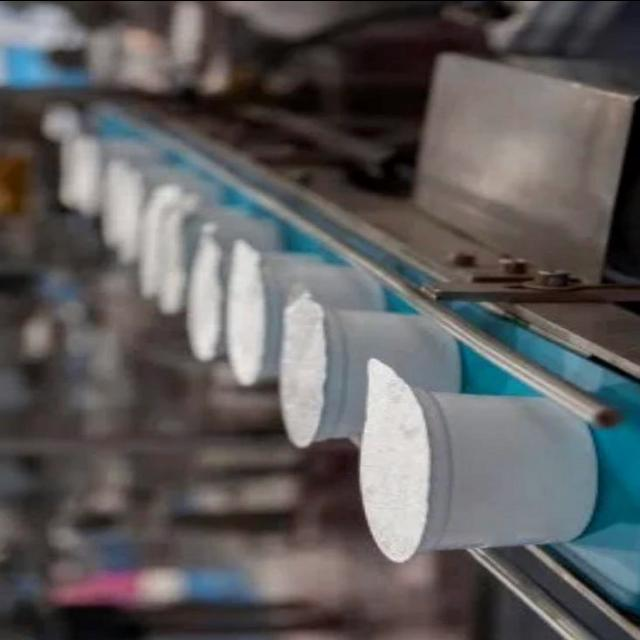food: (355, 356, 601, 564), (275, 289, 465, 449)
